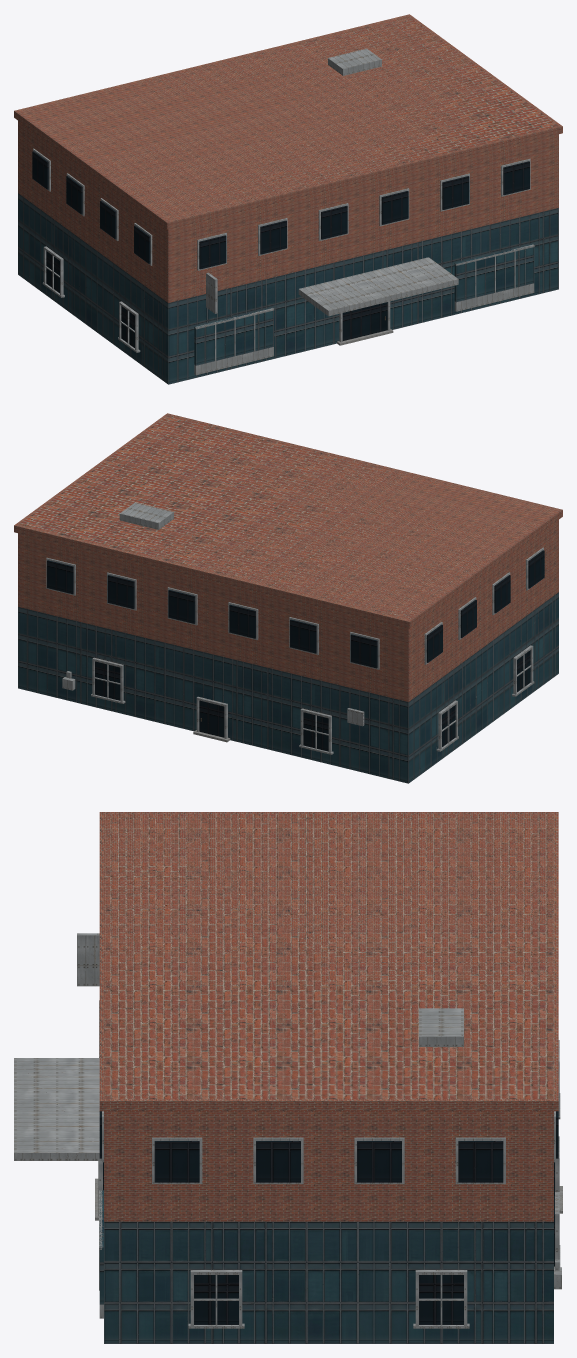
File: ironworks-fitness-center_lod0.gltf
3 renders of one model, top to bottom at view 1: azimuth 30°, elevation 25°; view 2: azimuth 150°, elevation 25°; view 3: azimuth 270°, elevation 25°, orthographic. The views are drawn at different scales.
Parts seen in each view (by area): view 1: ironworks-fitness-center_upper, ironworks-fitness-center__parapet, ironworks-fitness-center_base, ironworks-fitness-center_fen_07-glass-curtain-blue_1_t, ironworks-fitness-center_fen_07-glass-curtain-blue_4, ironworks-fitness-center_fen_14-steel-panel_0, ironworks-fitness-center__canopy, ironworks-fitness-center__hvac; view 2: ironworks-fitness-center_upper, ironworks-fitness-center__parapet, ironworks-fitness-center_base, ironworks-fitness-center_fen_07-glass-curtain-blue_1_t, ironworks-fitness-center_fen_14-steel-panel_0, ironworks-fitness-center__hvac; view 3: ironworks-fitness-center_upper, ironworks-fitness-center__parapet, ironworks-fitness-center_base, ironworks-fitness-center_fen_07-glass-curtain-blue_1_t, ironworks-fitness-center__canopy, ironworks-fitness-center_fen_14-steel-panel_0, ironworks-fitness-center__hvac, ironworks-fitness-center__blade_sign.
Boxes of the visible parts, <box> form: ironworks-fitness-center_upper: <box>18,16,558,302</box>; ironworks-fitness-center__parapet: <box>14,14,562,229</box>; ironworks-fitness-center_base: <box>18,193,558,384</box>; ironworks-fitness-center_fen_07-glass-curtain-blue_1_t: <box>32,151,529,347</box>; ironworks-fitness-center_fen_07-glass-curtain-blue_4: <box>194,244,534,365</box>; ironworks-fitness-center_fen_14-steel-panel_0: <box>33,148,534,375</box>; ironworks-fitness-center__canopy: <box>298,257,458,316</box>; ironworks-fitness-center__hvac: <box>328,48,381,75</box>; ironworks-fitness-center_upper: <box>18,415,558,701</box>; ironworks-fitness-center__parapet: <box>14,413,562,628</box>; ironworks-fitness-center_base: <box>18,592,558,783</box>; ironworks-fitness-center_fen_07-glass-curtain-blue_1_t: <box>47,550,544,751</box>; ironworks-fitness-center_fen_14-steel-panel_0: <box>46,547,543,754</box>; ironworks-fitness-center__hvac: <box>119,502,173,529</box>; ironworks-fitness-center_upper: <box>104,814,553,1221</box>; ironworks-fitness-center__parapet: <box>99,812,558,1111</box>; ironworks-fitness-center_base: <box>104,1221,553,1343</box>; ironworks-fitness-center_fen_07-glass-curtain-blue_1_t: <box>99,1111,558,1324</box>; ironworks-fitness-center__canopy: <box>14,1058,101,1160</box>; ironworks-fitness-center_fen_14-steel-panel_0: <box>98,1000,561,1328</box>; ironworks-fitness-center__hvac: <box>419,1008,463,1046</box>; ironworks-fitness-center__blade_sign: <box>77,933,99,986</box>.
Bounding box in the file's own units: 30.55 × 12.5 × 24.4.
